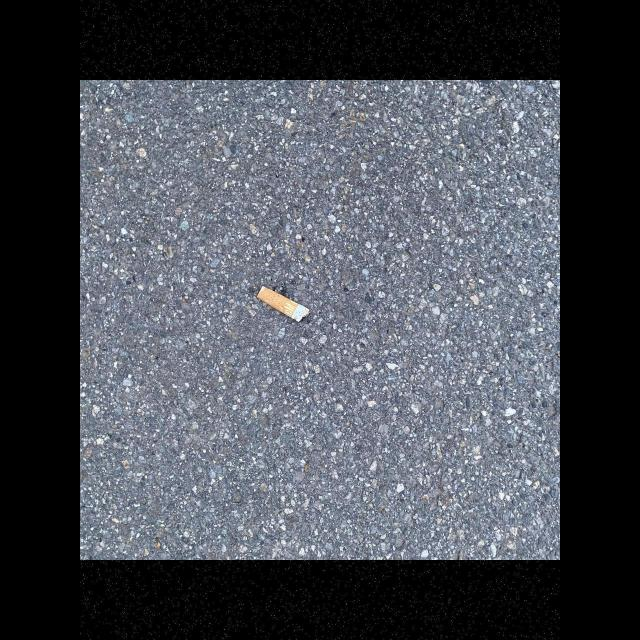cigarette: (256, 286, 310, 323)
